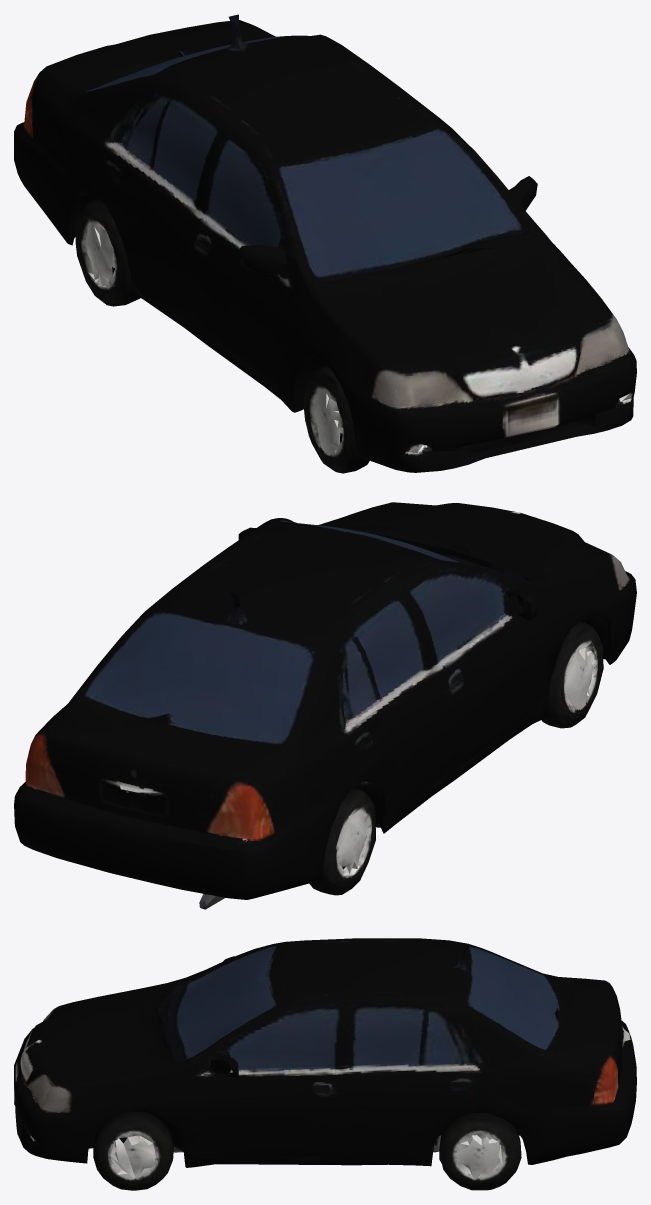
Rendered from taxi.glb.
The picture shows the model from 3 angles, top to bottom: view 1: azimuth 30°, elevation 25°; view 2: azimuth 150°, elevation 25°; view 3: azimuth 270°, elevation 25°; orthographic projection. The views are drawn at different scales.
Visible parts, largest first — view 1: taxi; view 2: taxi; view 3: taxi.
Boxes of the visible parts, <box> form: taxi: <box>14,14,636,473</box>; taxi: <box>14,502,636,909</box>; taxi: <box>14,938,636,1190</box>.
Bounding box in the file's own units: 1.77 × 1.5 × 4.22.
1 material, 1 textured.
